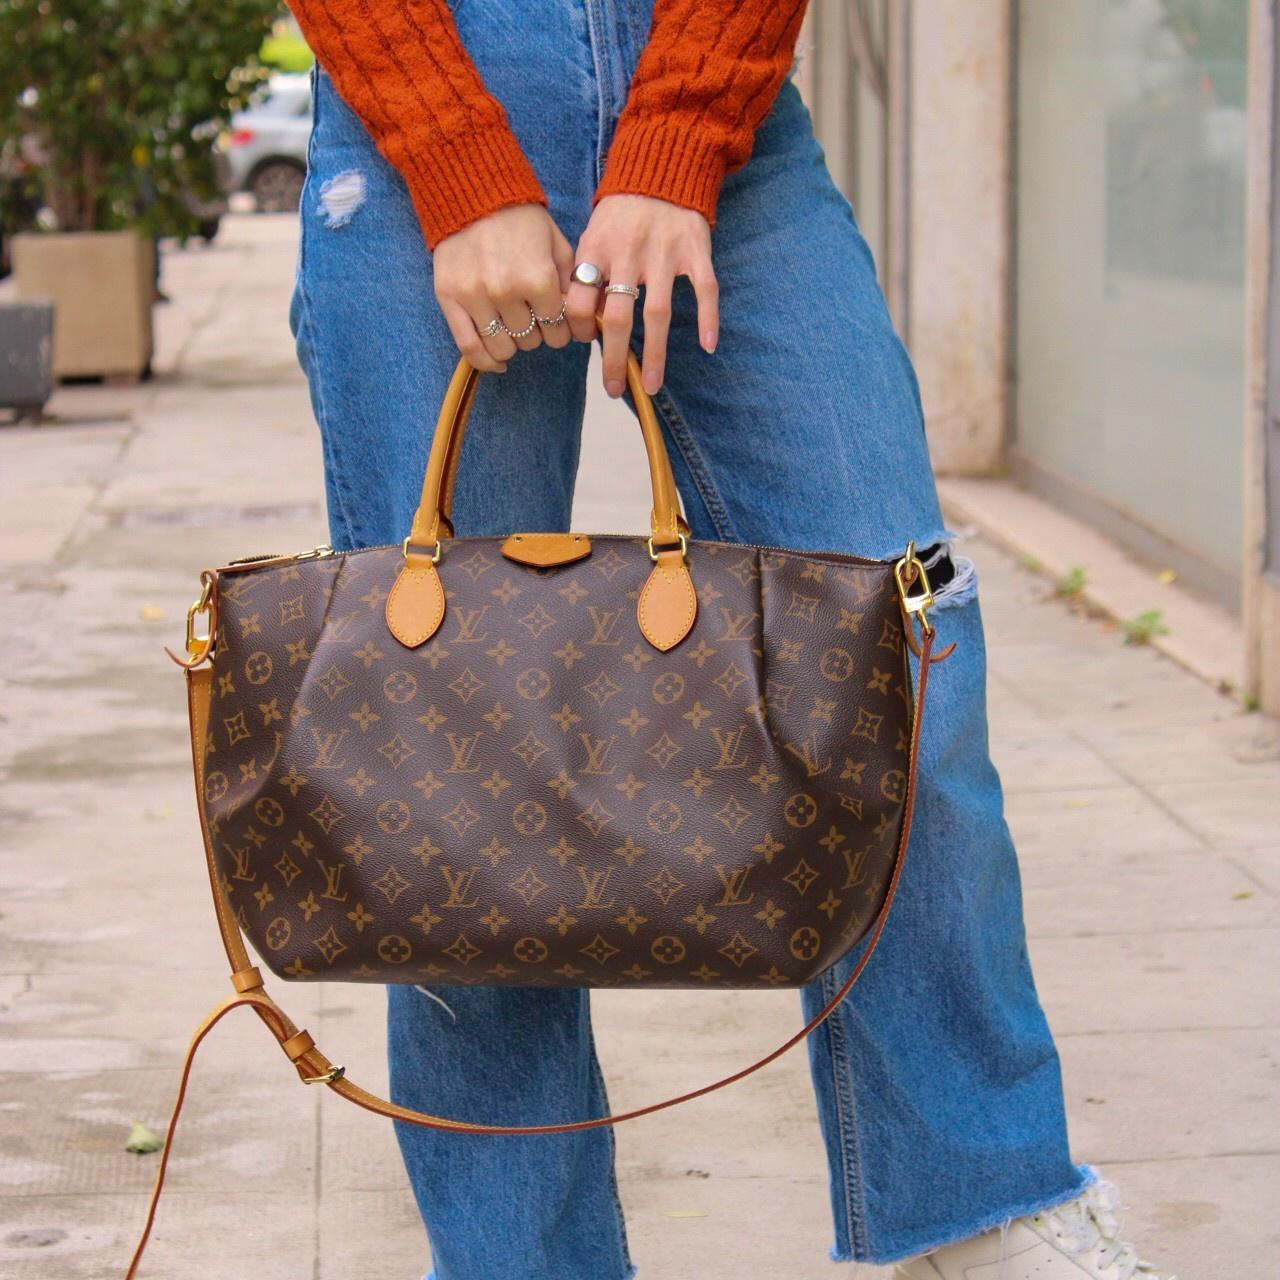LOUIS-VUITTON: (198, 535, 931, 988)
